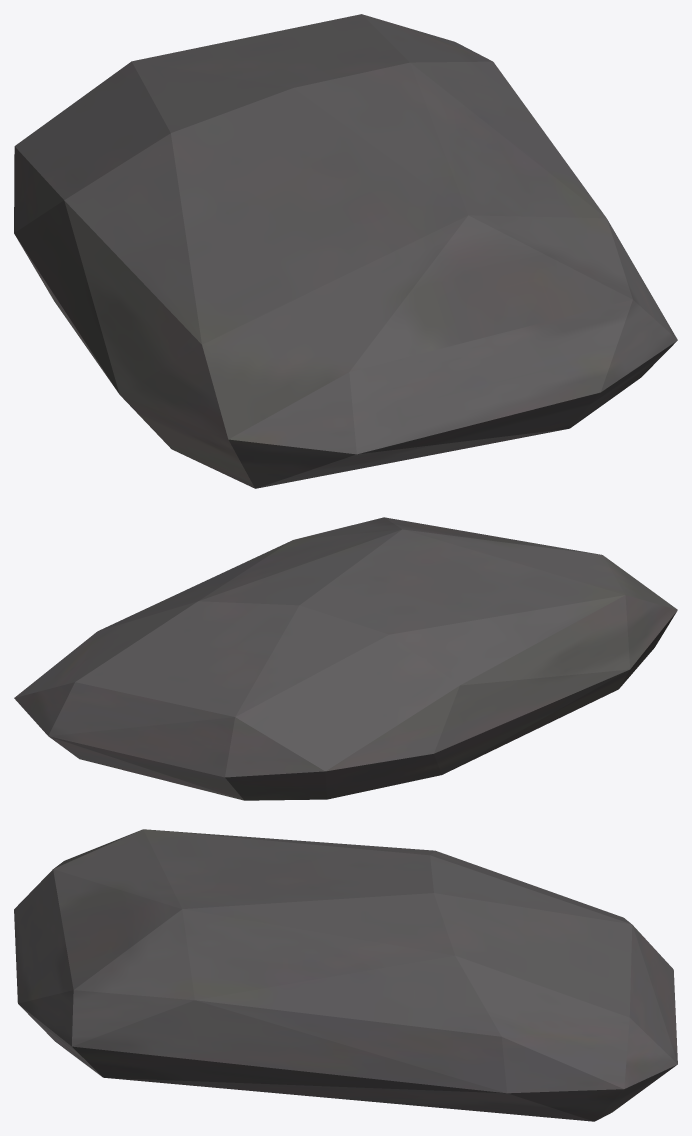
Rendered from piedra4Dani.fbx.
3 renders of one model, top to bottom at view 1: azimuth 30°, elevation 25°; view 2: azimuth 150°, elevation 25°; view 3: azimuth 270°, elevation 25°, orthographic. The views are drawn at different scales.
Visible parts, largest first — view 1: Cube.003; view 2: Cube.003; view 3: Cube.003.
Part boxes in pixels (bbox=[...]): Cube.003: bbox=[14, 14, 677, 488]; Cube.003: bbox=[14, 517, 677, 800]; Cube.003: bbox=[14, 829, 677, 1121].
Bounding box in the file's own units: 1.55 × 0.4819 × 1.88.
